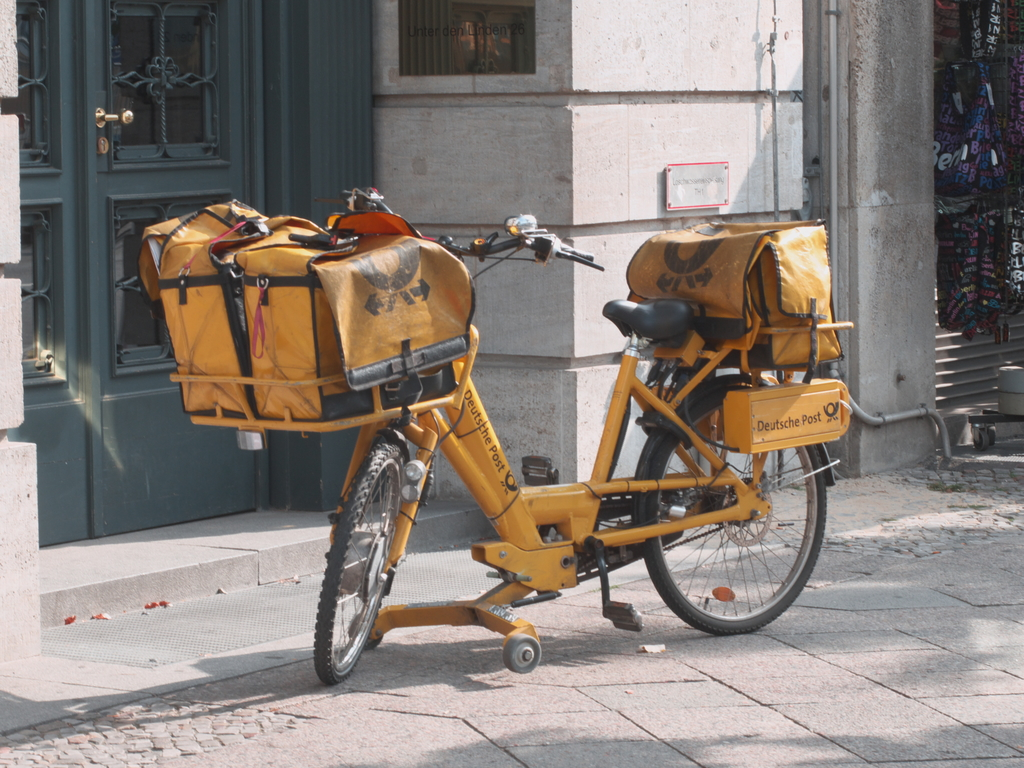bicycle: (317, 185, 835, 678)
